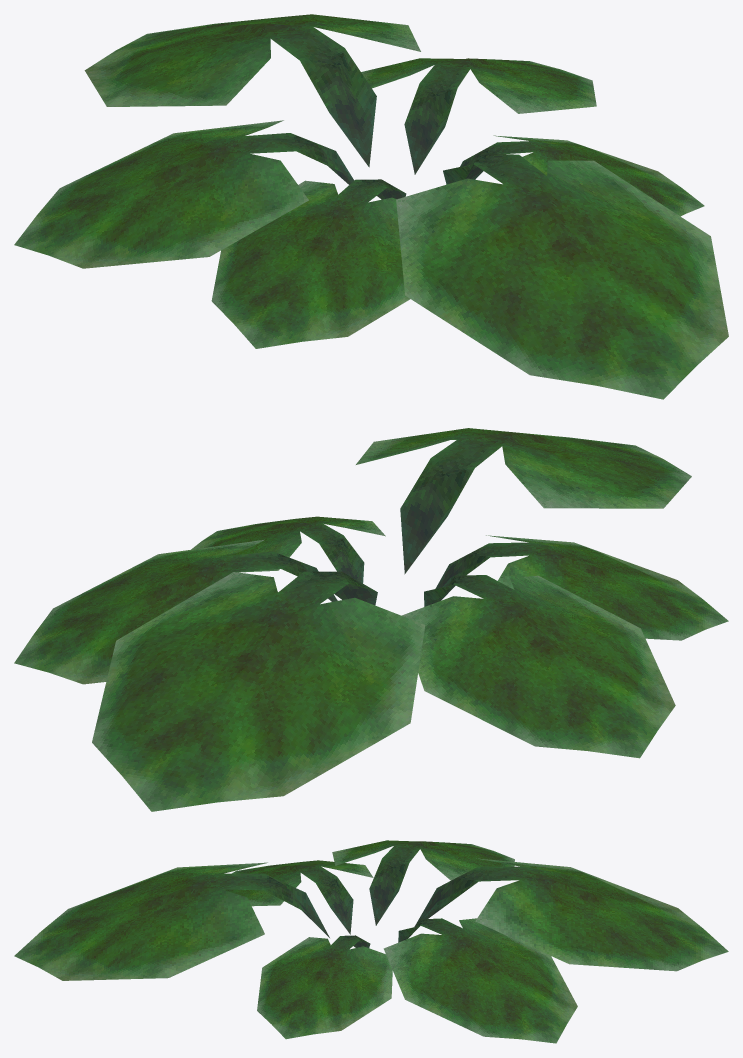
Rendered from grass_05.glb.
3 renders of one model, top to bottom at view 1: azimuth 30°, elevation 25°; view 2: azimuth 150°, elevation 25°; view 3: azimuth 270°, elevation 25°, orthographic. The views are drawn at different scales.
Parts seen in each view (by area): view 1: GRASS_05-no-col; view 2: GRASS_05-no-col; view 3: GRASS_05-no-col.
Boxes of the visible parts, box(x1,y1,x2,y2) form: GRASS_05-no-col: box(14, 14, 728, 399); GRASS_05-no-col: box(14, 428, 728, 811); GRASS_05-no-col: box(14, 840, 728, 1043).
Bounding box in the file's own units: 1.16 × 0.2197 × 1.73.
Materials: 1 (1 with a texture image).
